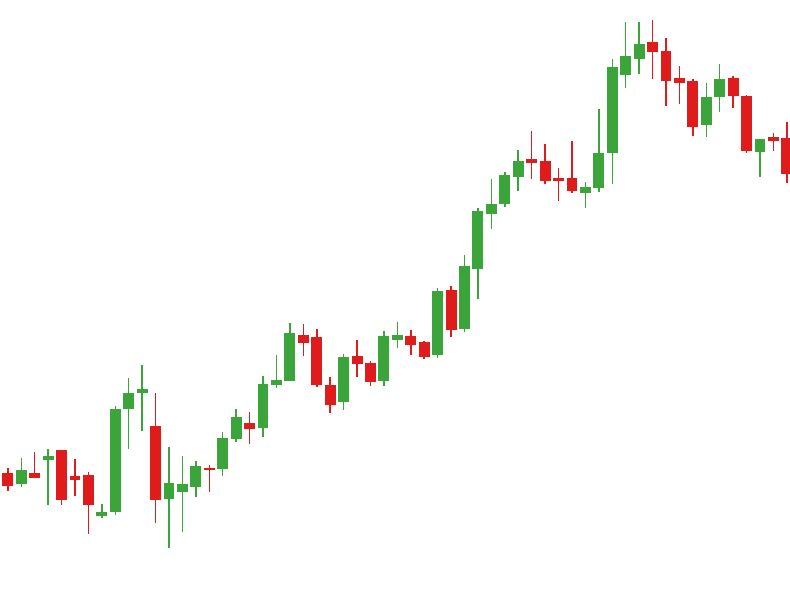buy: (81, 432, 176, 552)
